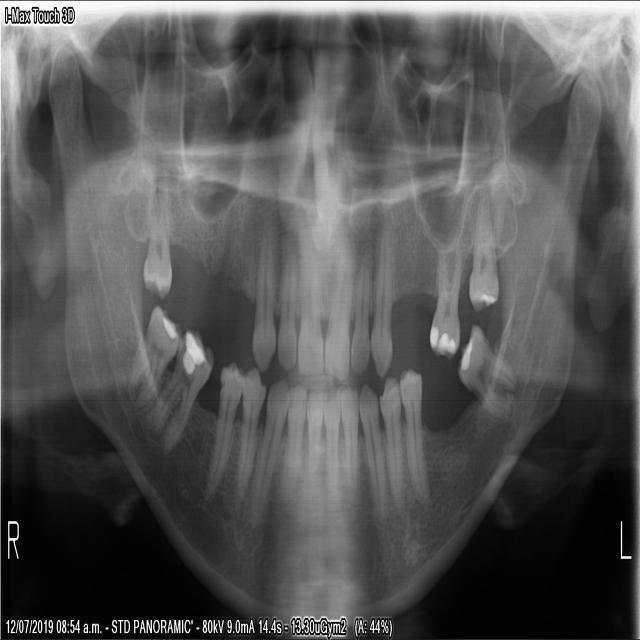LCD: (354, 375, 385, 520)
LCU: (368, 228, 395, 381)
LID: (336, 374, 359, 496), (321, 374, 340, 495)
LIU: (321, 240, 356, 387), (348, 246, 370, 380)
LMD: (453, 313, 518, 427)
LMU: (425, 232, 463, 369), (466, 186, 502, 315)
LPMD: (397, 360, 431, 509), (377, 370, 407, 516)
RCD: (247, 368, 292, 529)
RCU: (248, 213, 278, 378)
RID: (282, 373, 306, 500), (303, 377, 325, 492)
RIU: (295, 232, 325, 380), (274, 233, 298, 375)
RMD: (146, 320, 214, 455), (122, 297, 180, 420)
RMU: (140, 180, 175, 301)
RPMD: (201, 351, 245, 504), (229, 355, 266, 516)
